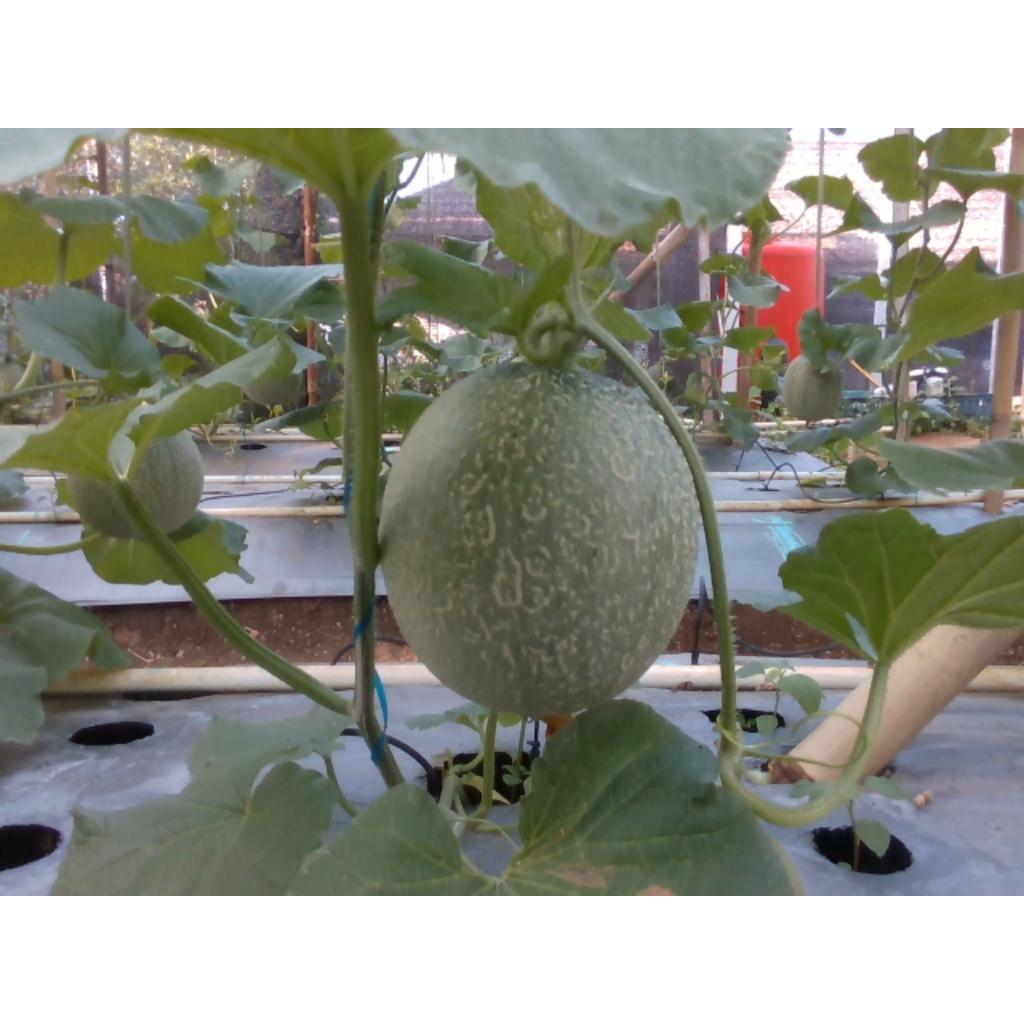melon: (379, 362, 701, 716)
